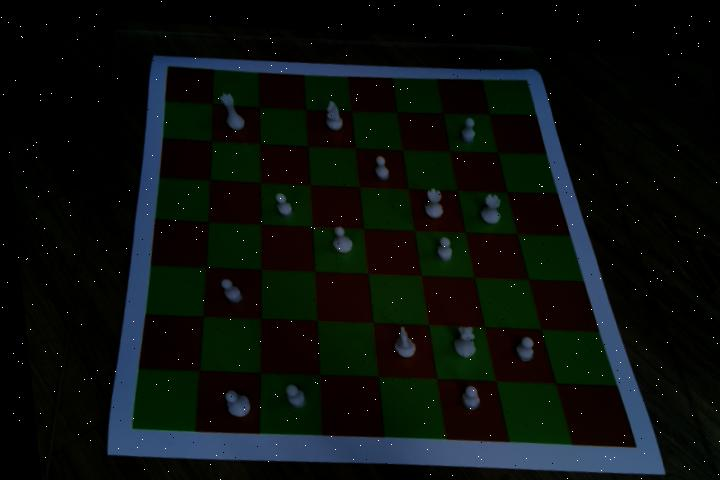chessboard-detect: (125, 62, 630, 433)
